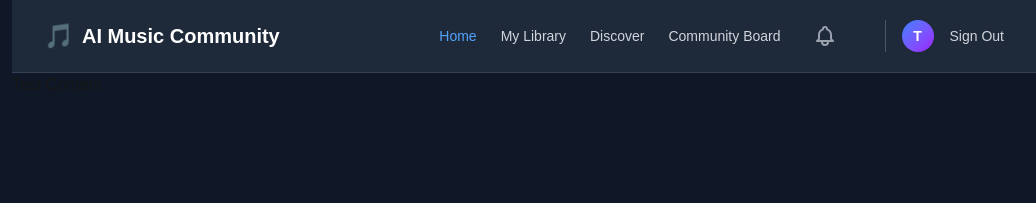
it: MainLayout Navigation › Admin Dashboard Link Visibility › should show Admin Dashboard link for admins
The image size is (1036, 203).
Note: Open avatar dropdown
Click the button named "User menu". click: [918, 36]
box: x1=902 y1=20 x2=934 y2=52
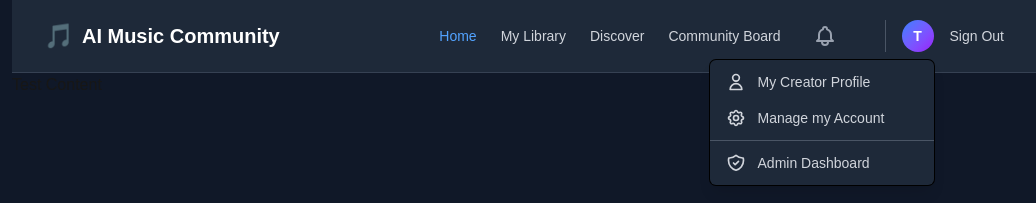
Now the menu item "Admin Dashboard" is shown, box x1=710 y1=145 x2=934 y2=181
